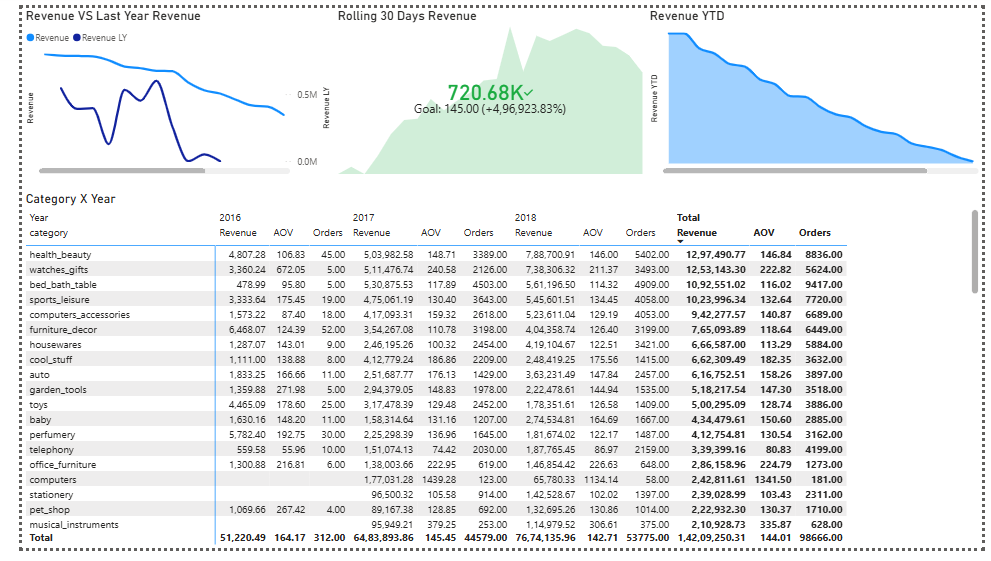

The page's visual inventory and layout, read from the dashboard file:
{"tool":"powerbi","page":{"name":"Sales Trend","canvas":[1280,720],"ordinal":1},"visuals":[{"type":"lineChart","title":"Revenue VS Last Year Revenue","fields":{"Y":["public bi_fact_sales.Revenue"],"Category":["DimDate.Year-Month"],"Y2":["public bi_fact_sales.Revenue LY"]},"box":[0,0,416,226],"z":0},{"type":"kpi","title":"Rolling 30 Days Revenue","fields":{"TrendLine":["DimDate.Year-Month"],"Indicator":["public bi_fact_sales.Rolling 30D Revenue"],"Goal":["public bi_fact_sales.Revenue"]},"box":[416,0,416,226],"z":1000},{"type":"areaChart","title":"Revenue YTD","fields":{"Category":["DimDate.Year-Month"],"Y":["public bi_fact_sales.Revenue YTD"]},"box":[832,0,448,226],"z":2000},{"type":"pivotTable","title":"Category X Year","fields":{"Values":["public bi_fact_sales.Revenue","public bi_fact_sales.AOV","public bi_fact_sales.Orders"],"Columns":["DimDate.Year"],"Rows":["public bi_fact_sales.category"]},"box":[0,244,1280,476],"z":3000}]}

Visuals, with their boxes in screenshot pixels (x1, y1, x2, y2), scaled from the page's 1280x720 canvas onto the 991x561 screenshot:
"Revenue VS Last Year Revenue" lineChart: 0, 0, 322, 176
"Rolling 30 Days Revenue" kpi: 322, 0, 644, 176
"Revenue YTD" areaChart: 644, 0, 990, 176
"Category X Year" pivotTable: 0, 190, 990, 560
